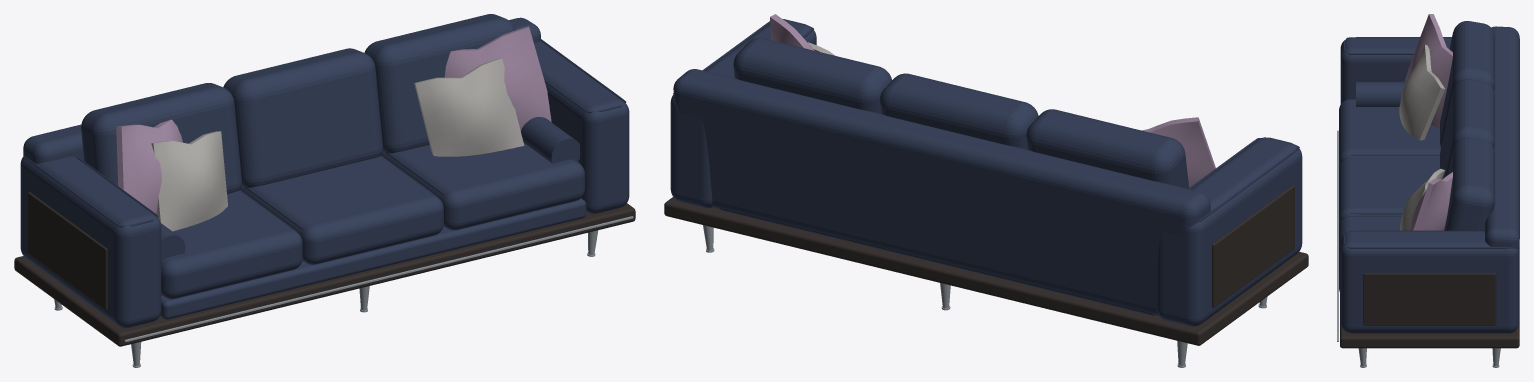
File: milano-midnight-3.glb
3 renders of one model, left to right at view 1: azimuth 30°, elevation 25°; view 2: azimuth 150°, elevation 25°; view 3: azimuth 270°, elevation 25°, orthographic. The views are drawn at different scales.
Size of the model in its own units: 2.2 by 0.8344 by 0.7932.
